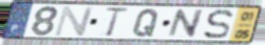8: (30, 5, 60, 37)
N: (52, 5, 96, 37), (165, 9, 206, 39)
Q: (131, 8, 161, 38)
S: (201, 8, 235, 41)
T: (103, 7, 130, 38)
